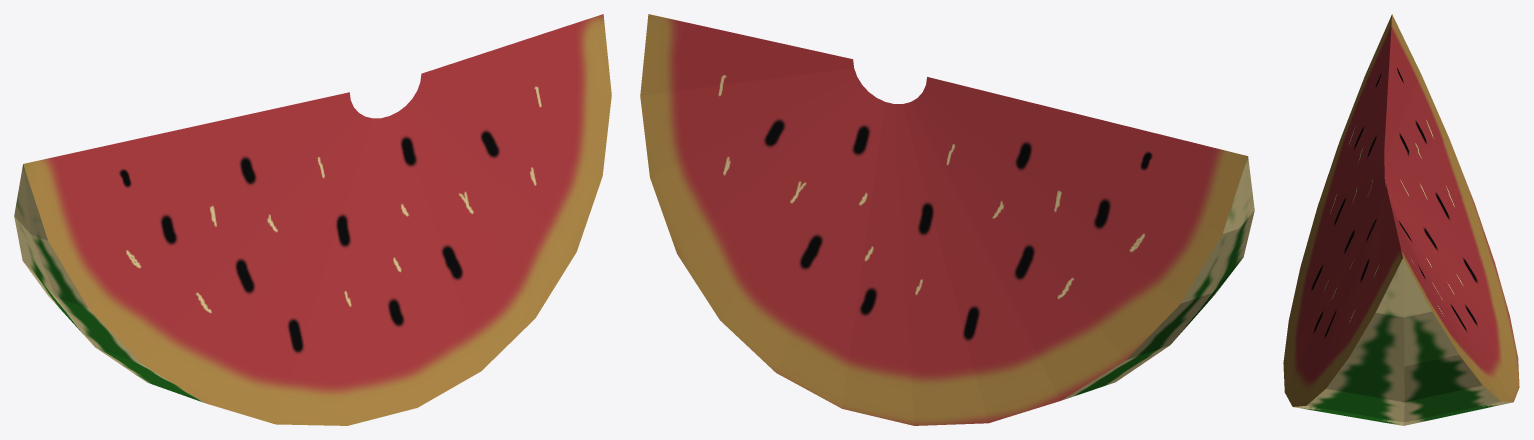
File: watermelon.fbx
3 views of the same model, side by side, from view 1: azimuth 30°, elevation 25°; view 2: azimuth 150°, elevation 25°; view 3: azimuth 270°, elevation 25° (orthographic). The views are drawn at different scales.
Parts seen in each view (by area): view 1: Sphere; view 2: Sphere; view 3: Sphere.
Part boxes in pixels (box(x1,y1,x2,y2)): Sphere: box(14, 14, 611, 425); Sphere: box(640, 14, 1254, 425); Sphere: box(1283, 14, 1519, 425).
Bounding box in the file's own units: 200 × 99.64 × 81.19.
Materials: 1 (1 with a texture image).
